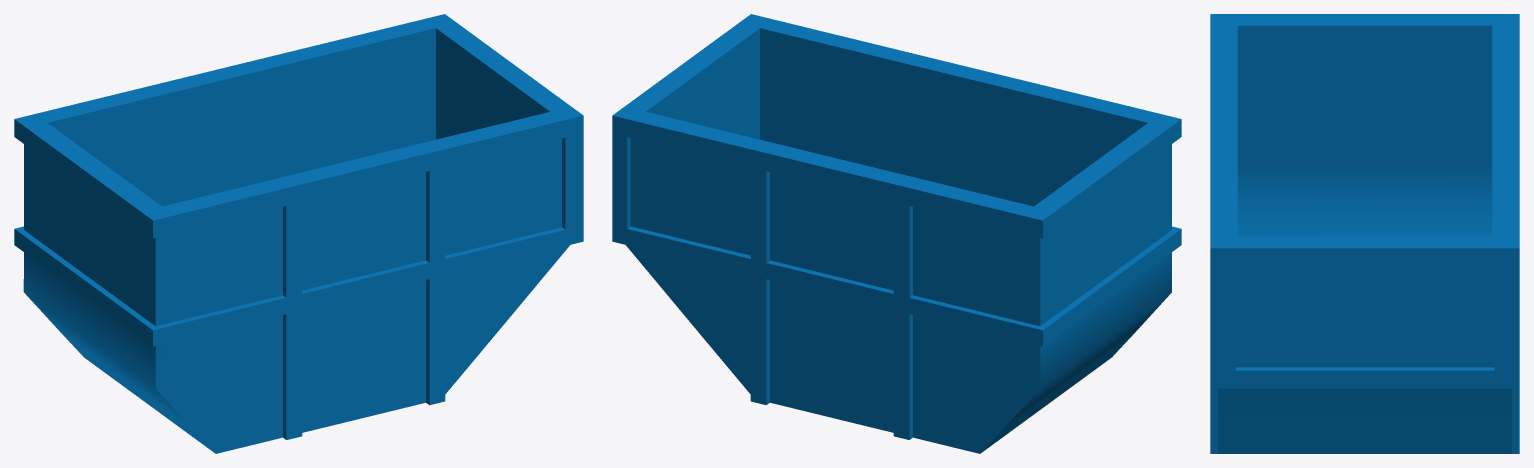
The picture shows the model from 3 angles, left to right: view 1: azimuth 30°, elevation 25°; view 2: azimuth 150°, elevation 25°; view 3: azimuth 270°, elevation 25°; orthographic projection. The views are drawn at different scales.
Parts seen in each view (by area): view 1: Cube; view 2: Cube; view 3: Cube.
Part boxes in pixels (x1,y1,x2,y2): Cube: [14, 14, 583, 453]; Cube: [612, 14, 1181, 453]; Cube: [1210, 14, 1519, 453].
Bounding box in the file's own units: 340 × 190 × 190.
